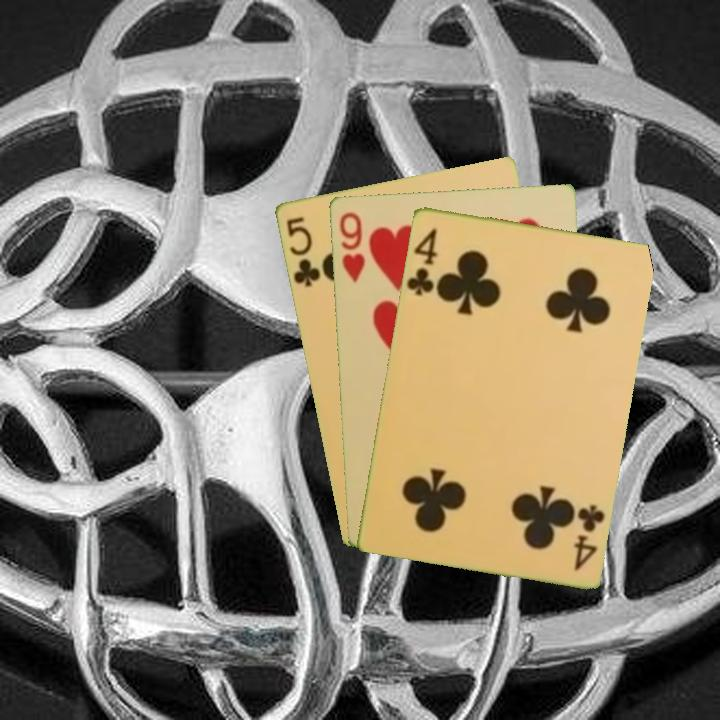4c: (403, 224, 440, 298), (570, 501, 607, 574)
5c: (282, 213, 323, 290)
9h: (335, 208, 368, 284)
